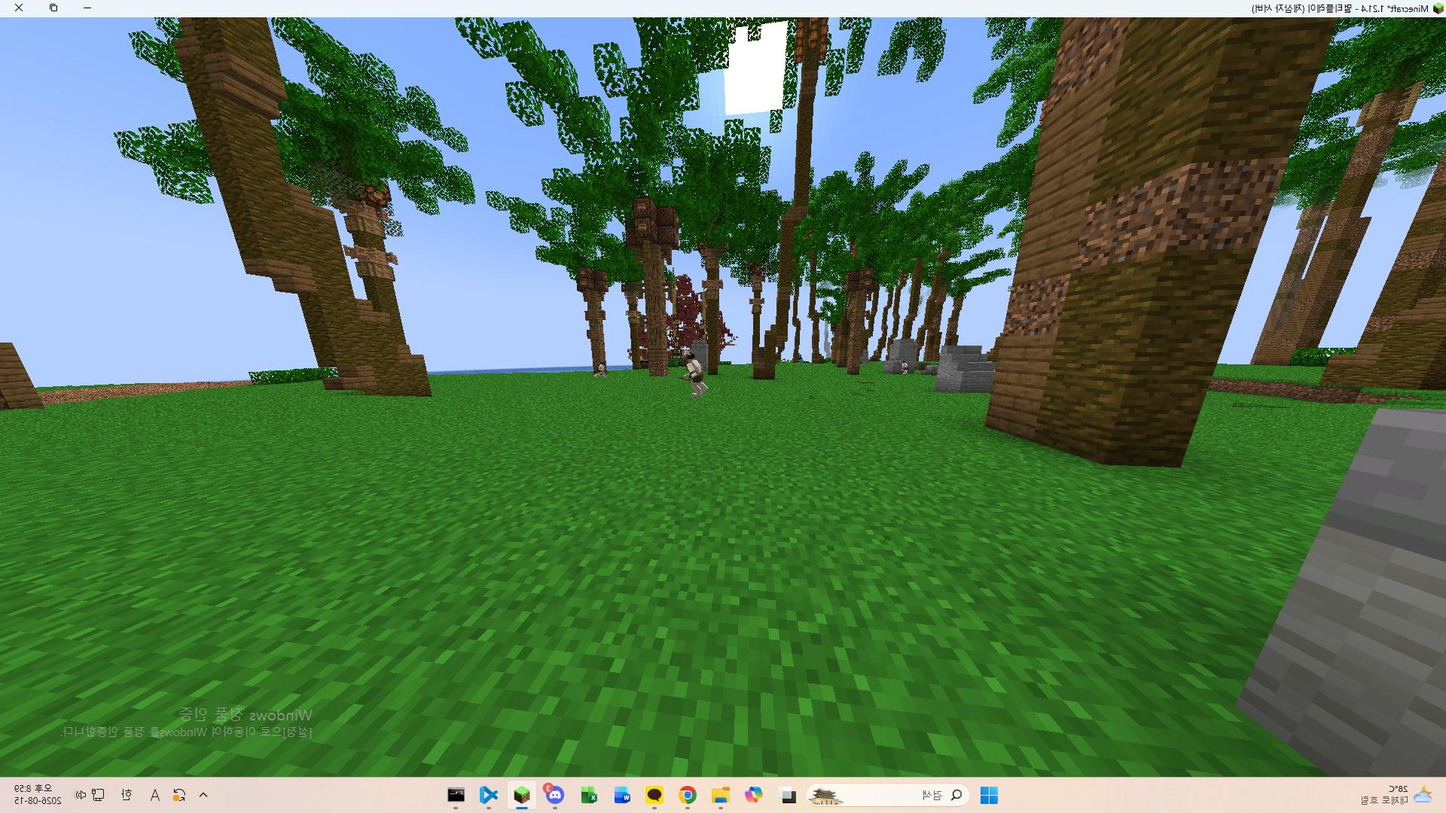bow_indian: (662, 350, 710, 417)
